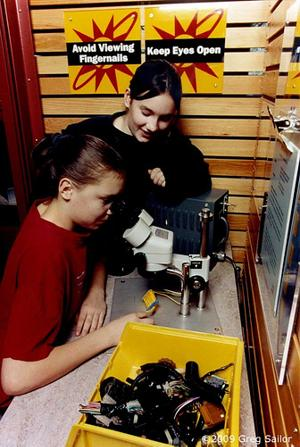person: (2, 125, 154, 418)
